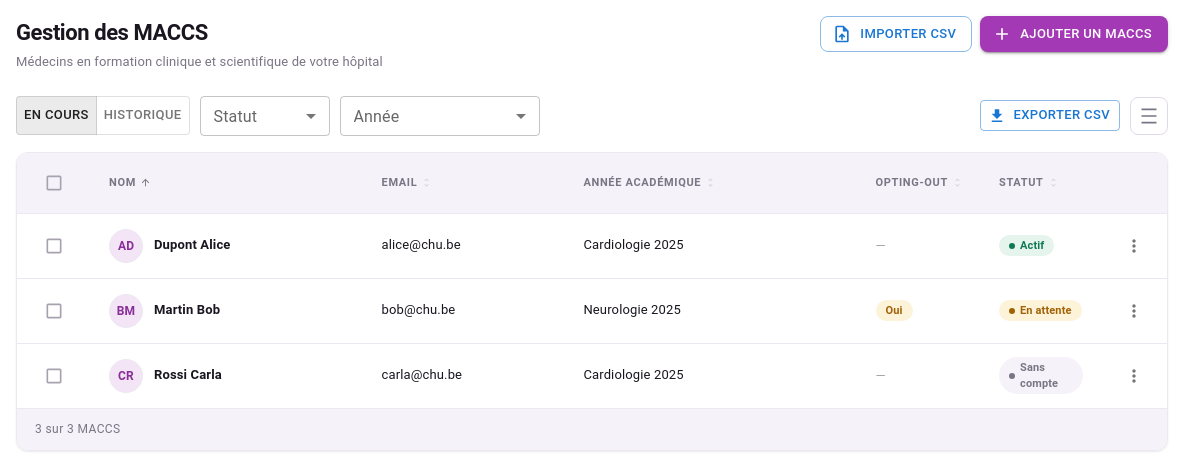
HospitalAdminResidentsPage › filtre par statut 'En attente' — affiche uniquement Bob
Expected: the text "Dupont Alice" is shown, x1=154 y1=236 x2=230 y2=255
Press the mouse on the 1st dropdown at (264, 116), box x1=200 y1=96 x2=330 y2=136
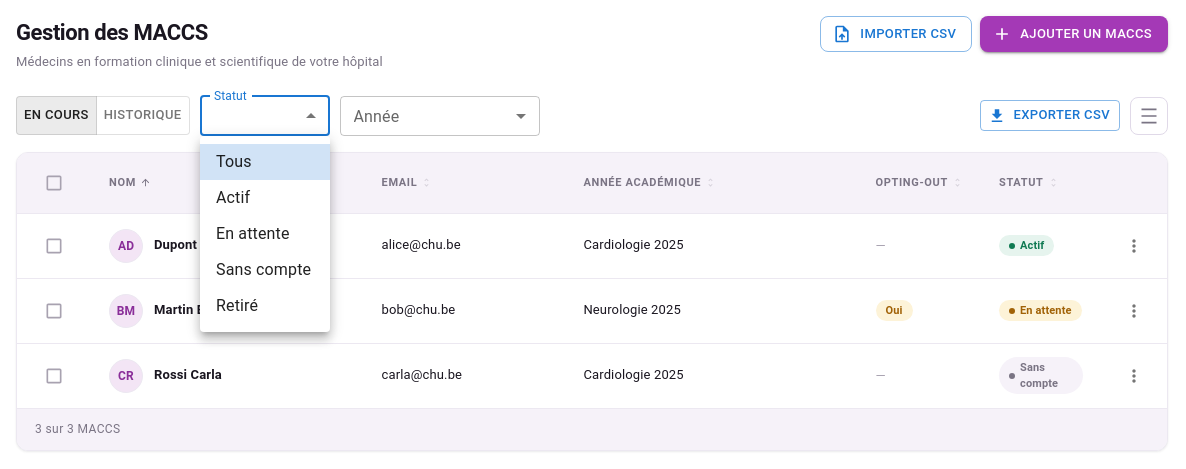
Expected: the option "En attente" is shown
Click the option "En attente".
click(253, 234)  # box x1=216 y1=224 x2=290 y2=243
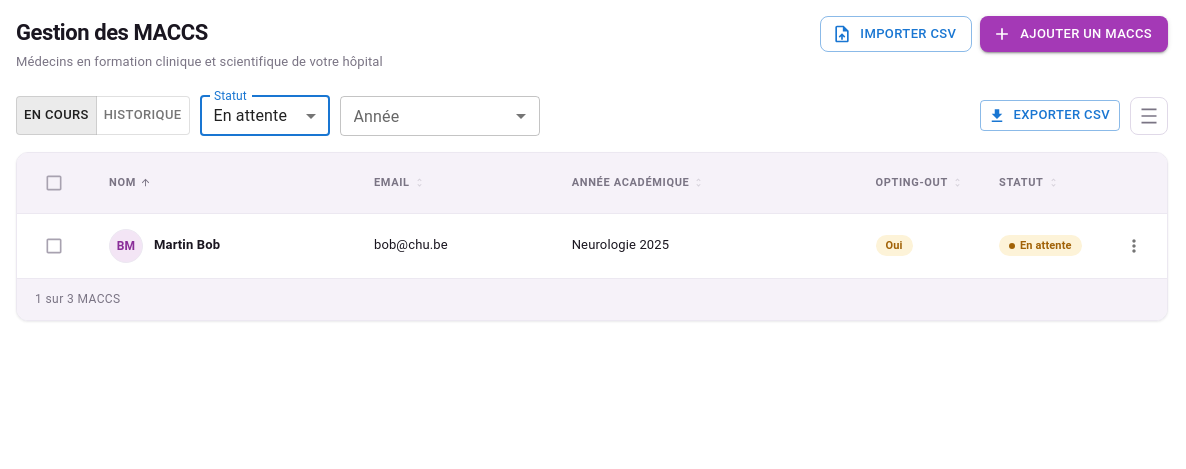
Expected: the text "Martin Bob" is shown, x1=154 y1=236 x2=220 y2=255
Expected: the text "Dupont Alice" is gone
Expected: the text "Rossi Carla" is gone
